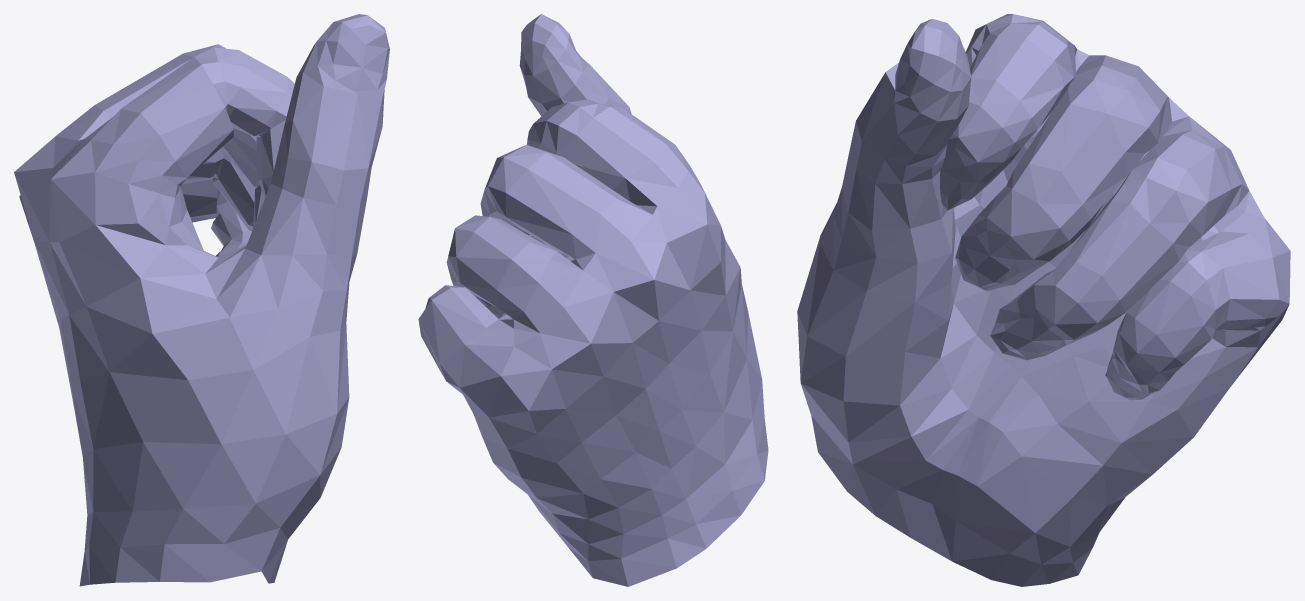
File: frame_0023_source_000023_hand.glb
The picture shows the model from 3 angles, left to right: view 1: azimuth 30°, elevation 25°; view 2: azimuth 150°, elevation 25°; view 3: azimuth 270°, elevation 25°; orthographic projection. The views are drawn at different scales.
Visible parts, largest first — view 1: world; view 2: world; view 3: world.
Boxes of the visible parts, <box> form: world: <box>14,14,389,586</box>; world: <box>418,14,768,586</box>; world: <box>797,14,1290,586</box>.
Bounding box in the file's own units: 0.0624 × 0.1242 × 0.0897.
